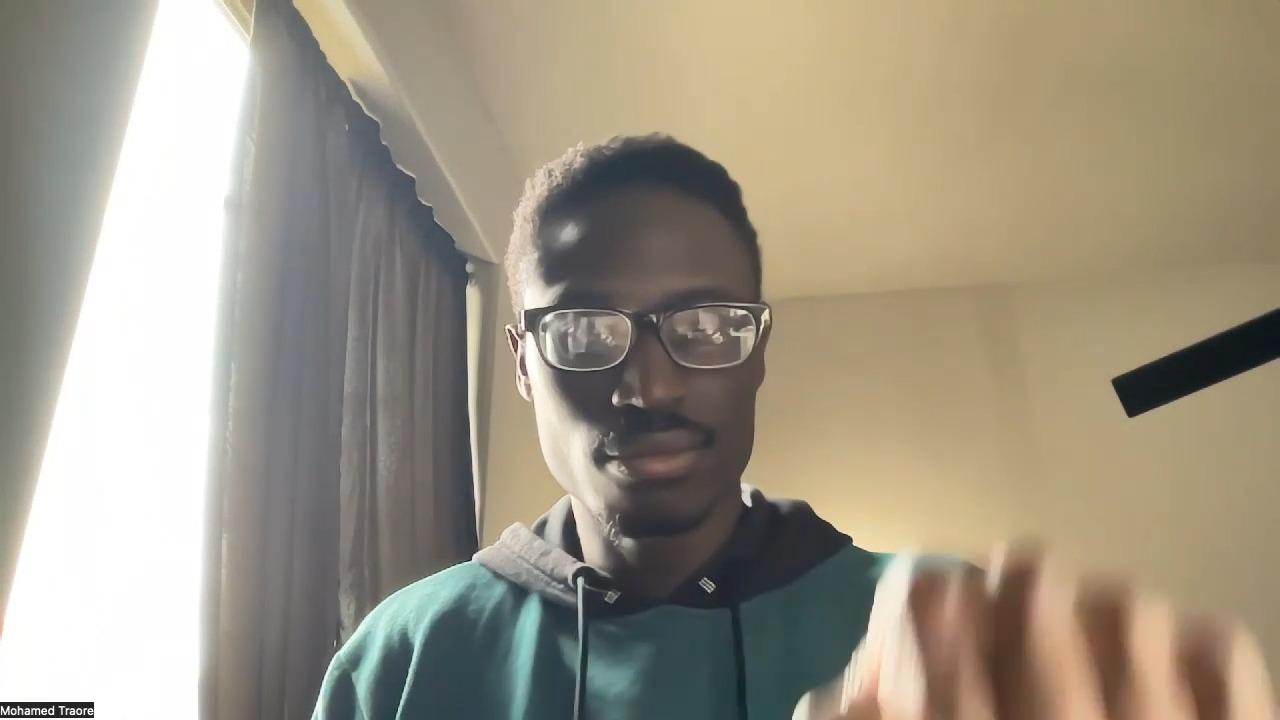Rock: (787, 540, 1280, 720)
